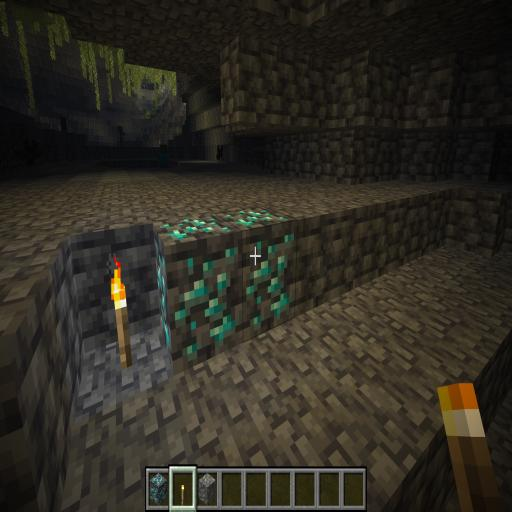diamond ore: (150, 205, 296, 364)
